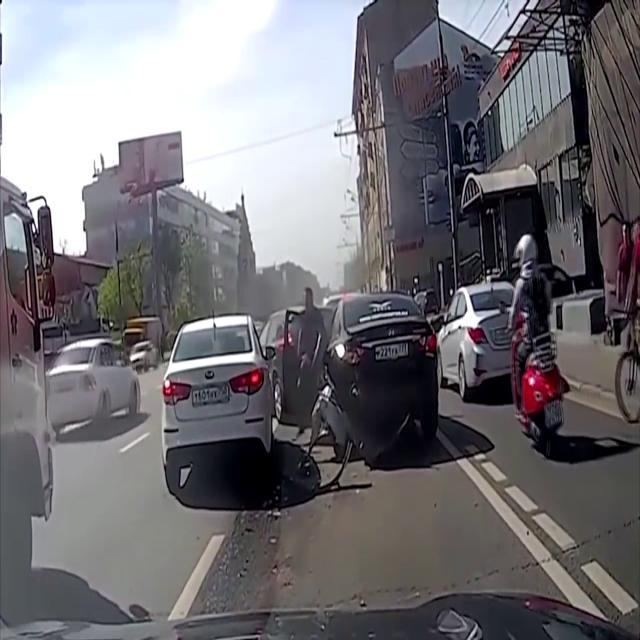multiple_accident: (247, 273, 443, 480)
normal: (490, 190, 575, 465), (25, 307, 152, 455)
